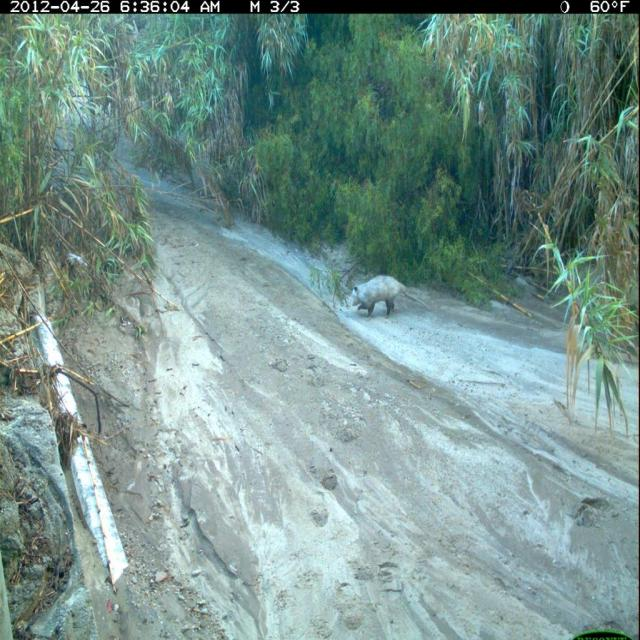opossum: (350, 271, 434, 325)
